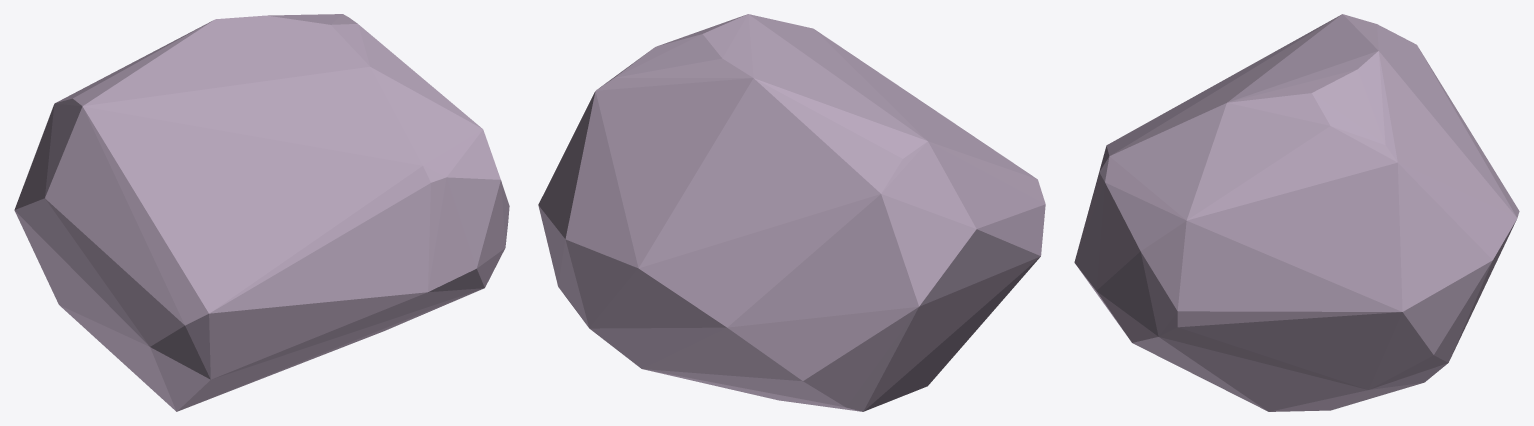
Rendered from food_produce_kiwi_a06.glb.
The picture shows the model from 3 angles, left to right: view 1: azimuth 30°, elevation 25°; view 2: azimuth 150°, elevation 25°; view 3: azimuth 270°, elevation 25°; orthographic projection. The views are drawn at different scales.
Parts seen in each view (by area): view 1: geometry_0; view 2: geometry_0; view 3: geometry_0.
Part boxes in pixels (x1=…): geometry_0: x1=14, y1=14, x2=509, y2=411; geometry_0: x1=538, y1=14, x2=1045, y2=411; geometry_0: x1=1074, y1=14, x2=1519, y2=411.
Bounding box in the file's own units: 0.4463 × 0.3599 × 0.4357.
